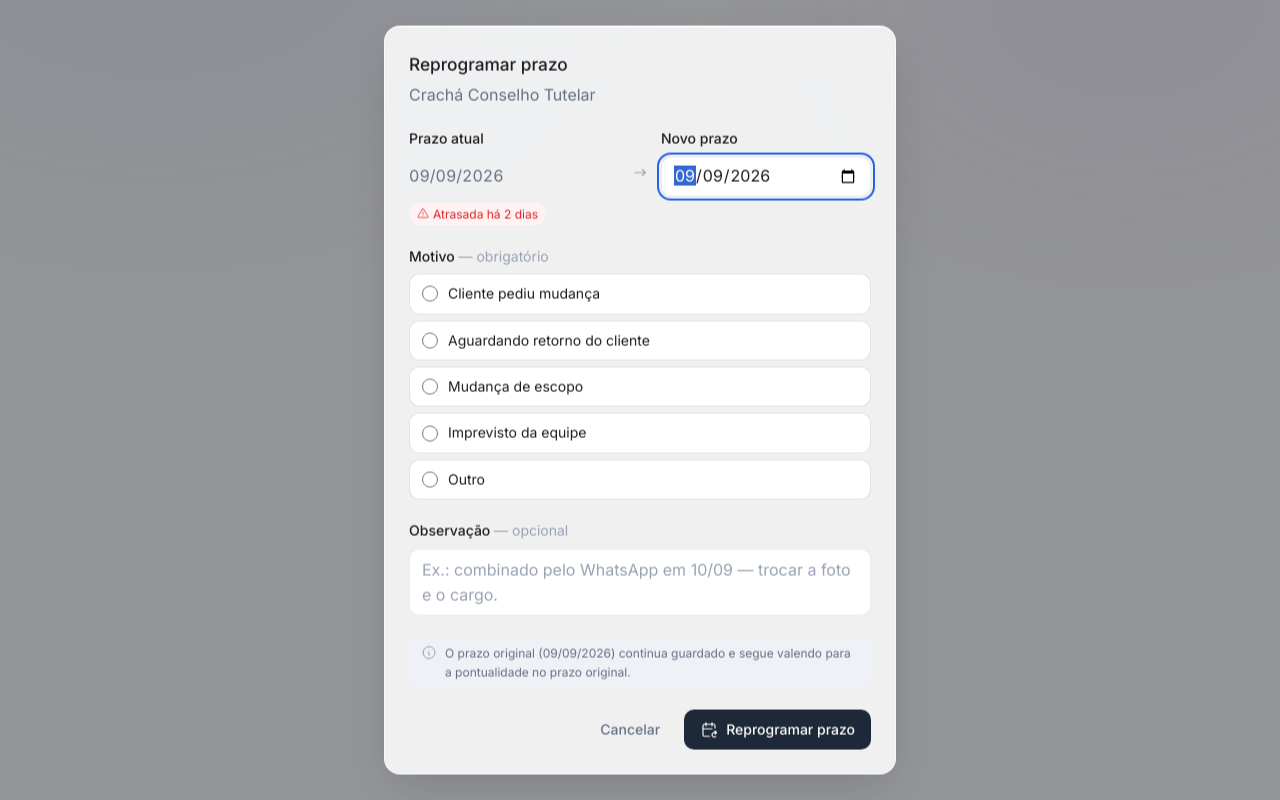
Test case: ReprogramarPrazoDialog › a mesma data não é reprogramação
Click the radio button labelled "Cliente pediu mudança".
click(430, 294)  # box [422,286,438,302]
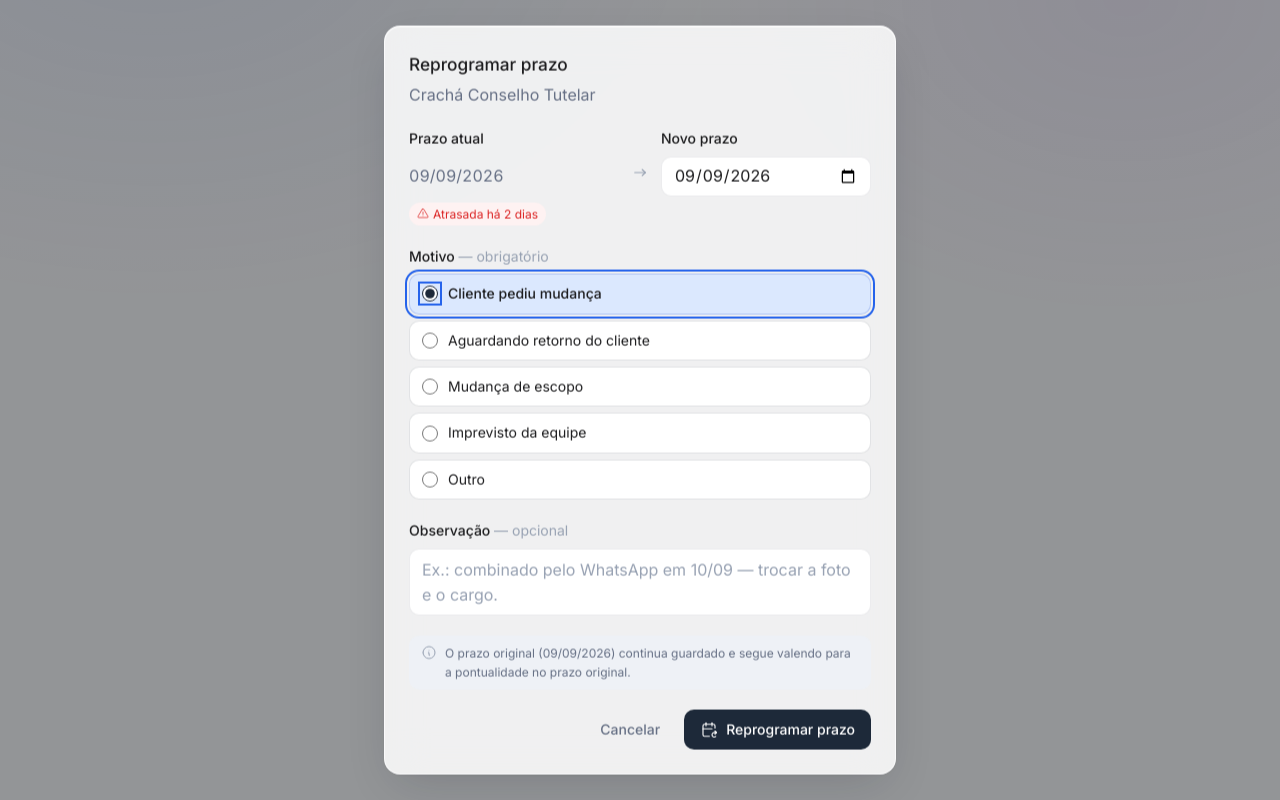
Click the button "Reprogramar prazo".
click(778, 729)  # box [684,709,871,749]
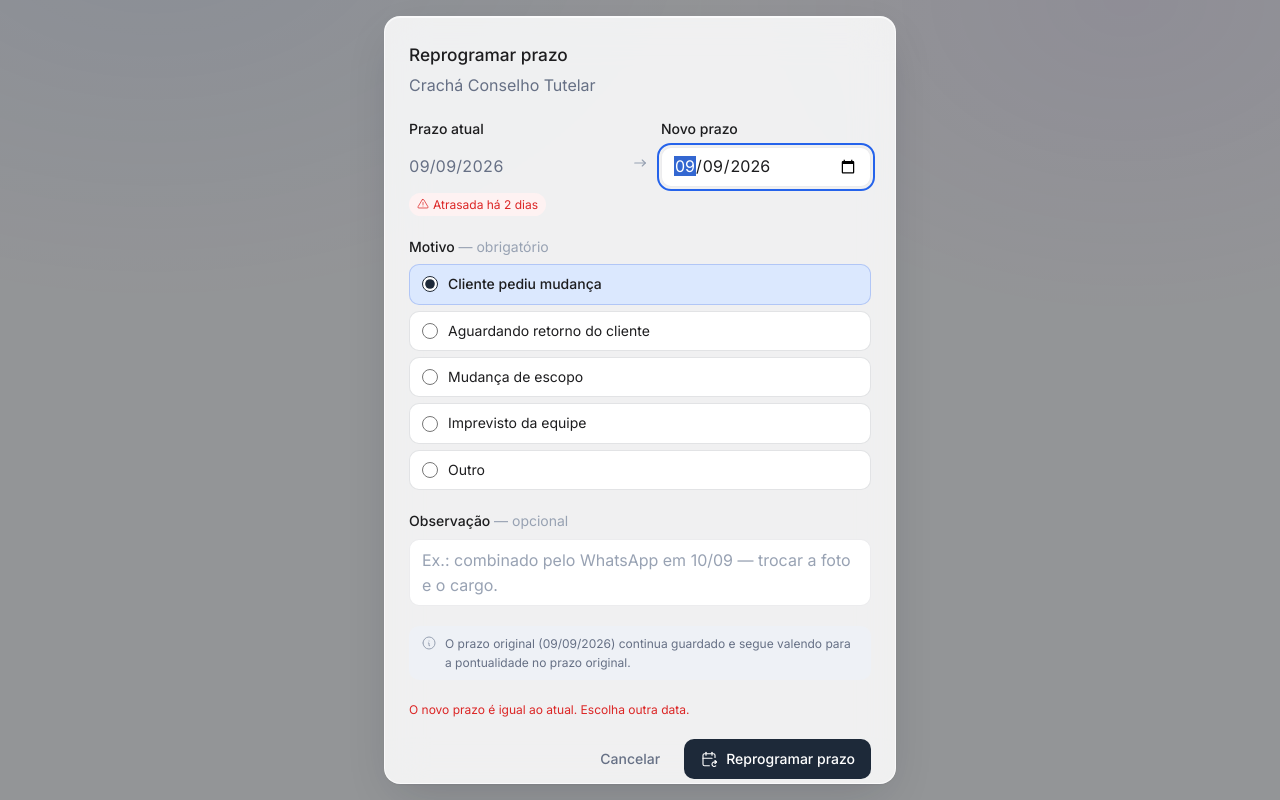
Result: the message reads "O novo prazo é igual ao atual. Escolha outra data." at [409,702,689,717]
